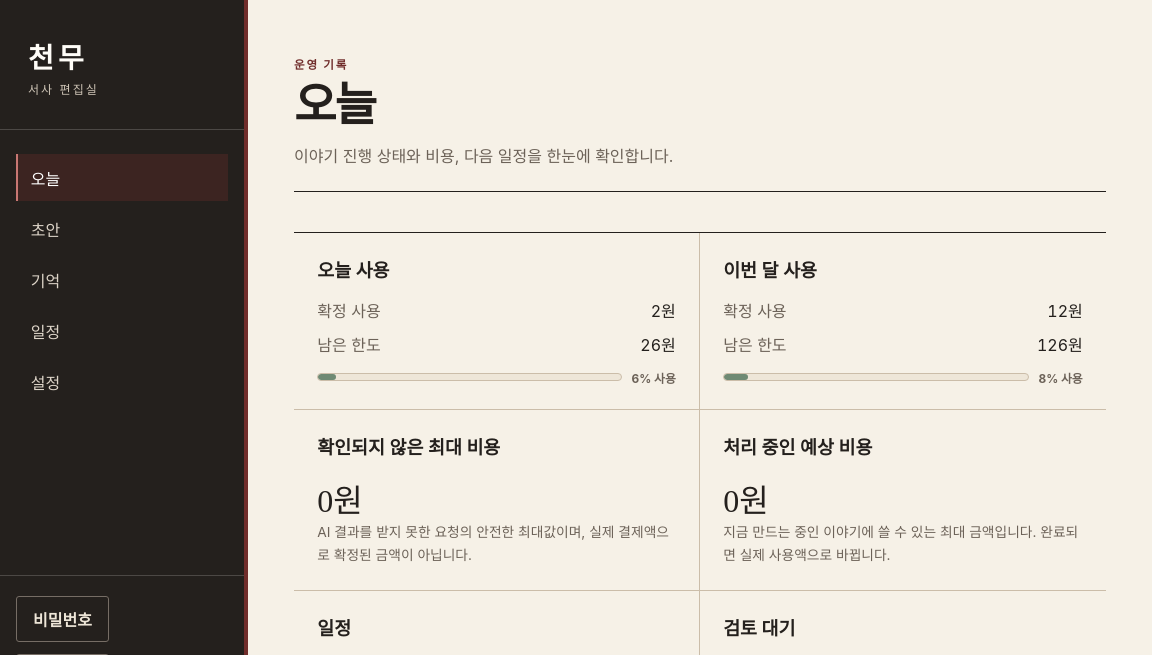
AdminApp local preview composition › does not submit two different new passwords
Click the button with aria-label "비밀번호 변경".
click(62, 619)  # box [16, 596, 109, 642]
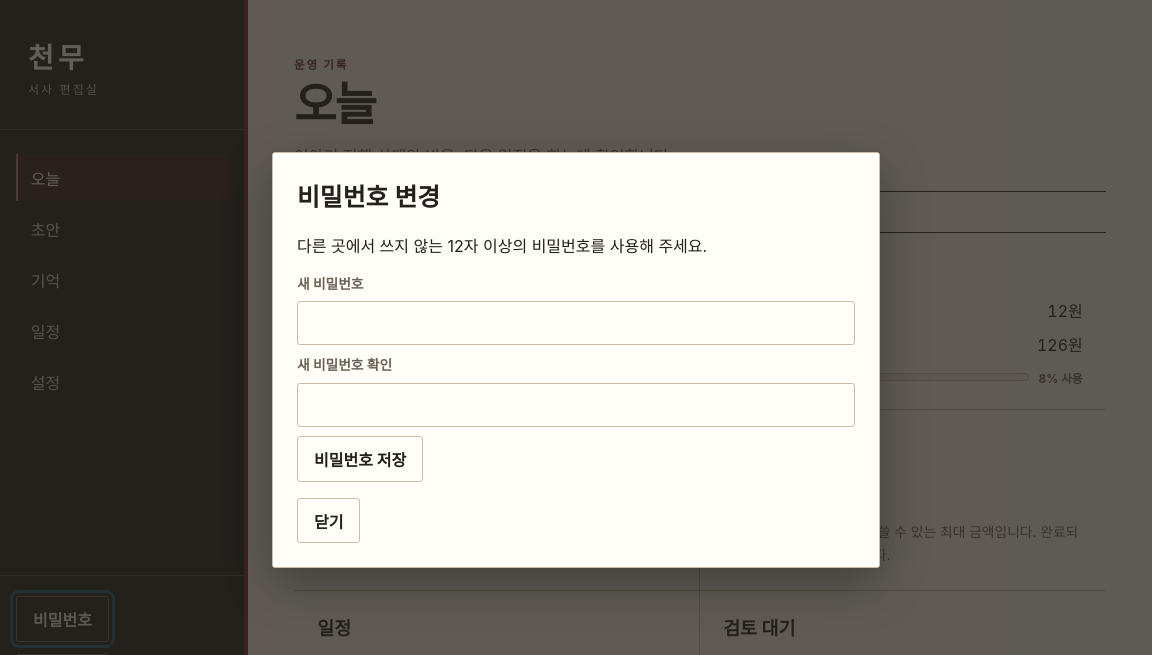
Type "new-secure-password" into the password field labelled "새 비밀번호".
click(576, 323); type("new-secure-password")  # box [297, 301, 855, 345]
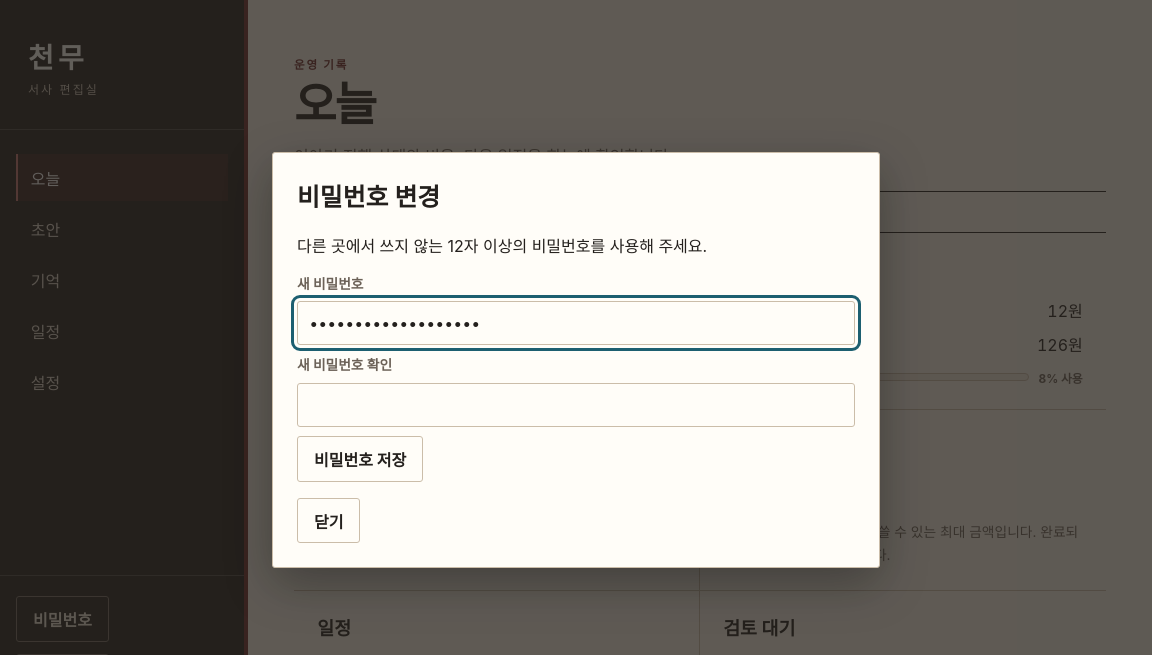
Type "different-password" into the password field labelled "새 비밀번호 확인".
click(576, 405); type("different-password")  # box [297, 383, 855, 427]
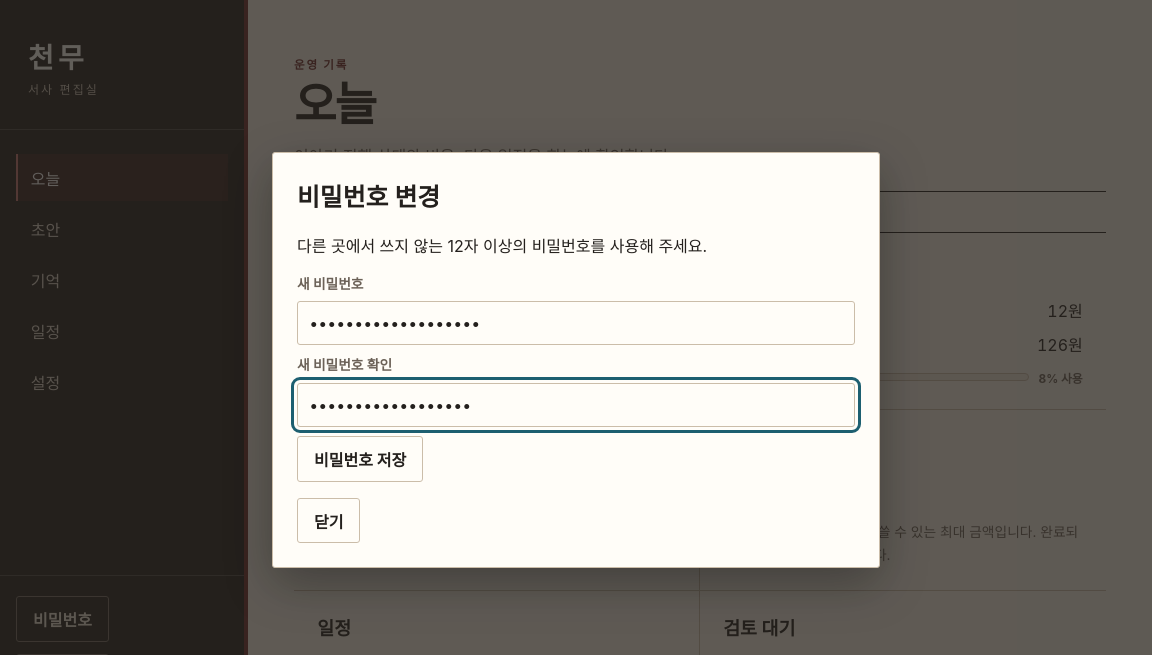
Click the button "비밀번호 저장".
click(360, 459)  # box [297, 436, 423, 482]
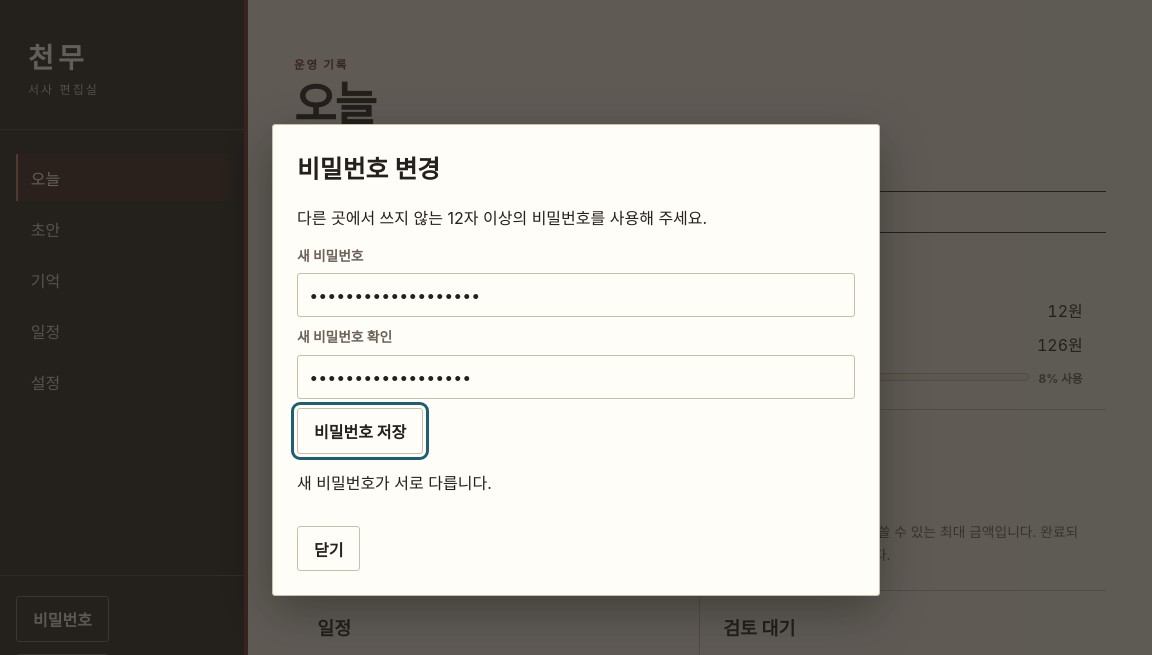
Expected: the message reads "새 비밀번호가 서로 다릅니다.", [297, 473, 492, 493]
